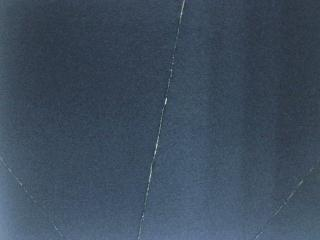crack: (134, 0, 190, 240), (253, 162, 320, 240), (0, 159, 64, 240)
